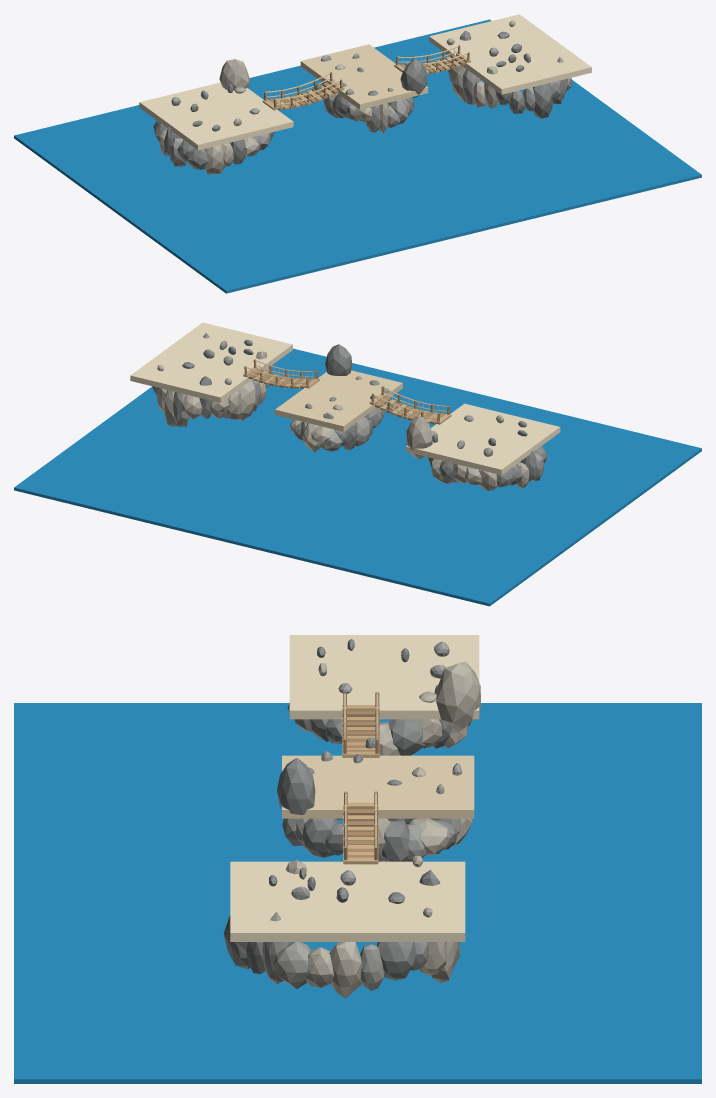
Rendered from Puente_colgante.glb.
3 renders of one model, top to bottom at view 1: azimuth 30°, elevation 25°; view 2: azimuth 150°, elevation 25°; view 3: azimuth 270°, elevation 25°, orthographic. The views are drawn at different scales.
Visible parts, largest first — view 1: Deep_Ocean, Right_Sand_Top, Left_Sand_Top, Center_Sand_Top, Right_Bridge_Post_-1_1.001, Right_Bridge_Post_-1_1, High_Rock_4, High_Rock_5, Right_Cliff_Facet_6, Left_Cliff_Facet_8; view 2: Deep_Ocean, Right_Sand_Top, Left_Sand_Top, Center_Sand_Top, Right_Bridge_Post_-1_1.001, Right_Bridge_Post_-1_1, High_Rock_4, High_Rock_5, Right_Cliff_Facet_13; view 3: Deep_Ocean, Right_Sand_Top, Left_Sand_Top, Center_Sand_Top, High_Rock_4, Right_Bridge_Post_-1_1, Right_Bridge_Post_-1_1.001, High_Rock_5, Right_Cliff_Facet_0, Right_Cliff_Facet_2, Right_Cliff_Facet_22, Left_Cliff_Facet_19.001 (+6 smaller).
Part boxes in pixels (x1,y1,x2,y2): Deep_Ocean: (14,19,701,293); Right_Sand_Top: (429,14,591,94); Left_Sand_Top: (139,82,293,150); Center_Sand_Top: (300,44,428,109); Right_Bridge_Post_-1_1.001: (262,72,344,110); Right_Bridge_Post_-1_1: (394,45,470,73); High_Rock_4: (219,59,249,90); High_Rock_5: (400,59,427,97); Right_Cliff_Facet_6: (532,83,552,118); Left_Cliff_Facet_8: (204,145,225,174); Deep_Ocean: (14,348,701,606); Right_Sand_Top: (130,322,292,402); Left_Sand_Top: (406,403,560,474); Center_Sand_Top: (275,370,402,431); Right_Bridge_Post_-1_1.001: (369,386,451,424); Right_Bridge_Post_-1_1: (243,359,319,388); High_Rock_4: (406,416,432,459); High_Rock_5: (325,344,352,375); Right_Cliff_Facet_13: (237,380,255,420); Deep_Ocean: (14,703,701,1083); Right_Sand_Top: (230,861,465,941); Left_Sand_Top: (289,635,479,719); Center_Sand_Top: (282,755,474,818); High_Rock_4: (436,661,481,732); Right_Bridge_Post_-1_1: (343,791,378,864); Right_Bridge_Post_-1_1.001: (342,692,379,757); High_Rock_5: (277,758,315,814); Right_Cliff_Facet_0: (329,942,362,998); Right_Cliff_Facet_2: (273,942,310,988); Right_Cliff_Facet_22: (376,942,416,980); Left_Cliff_Facet_19.001: (388,719,424,755).
Bounding box in the file's own units: 44 × 9.16 × 34.
